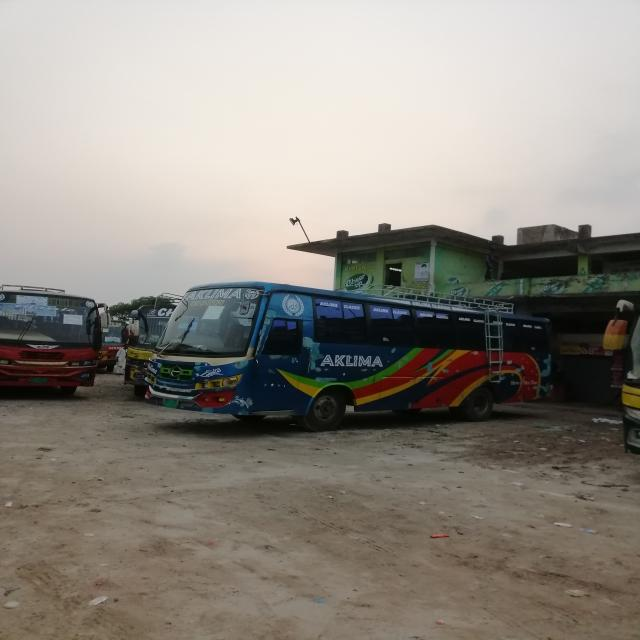Bus: (141, 280, 556, 419)
